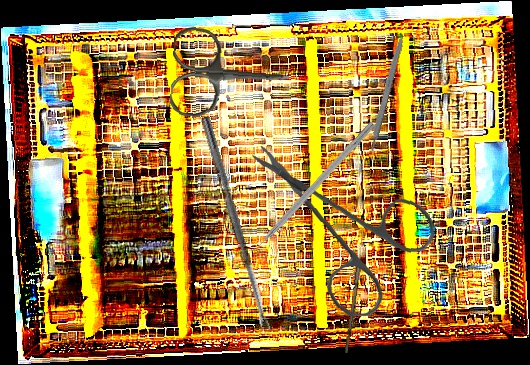Chopper: (238, 114, 376, 261)
Iris Scissors: (251, 134, 441, 323), (169, 26, 292, 123)
Scalpel Handle: (366, 33, 406, 153)
Surgical Spoon: (199, 115, 271, 333), (344, 230, 366, 354)
